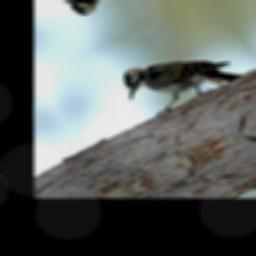Woodpecker: (112, 26, 248, 130)
